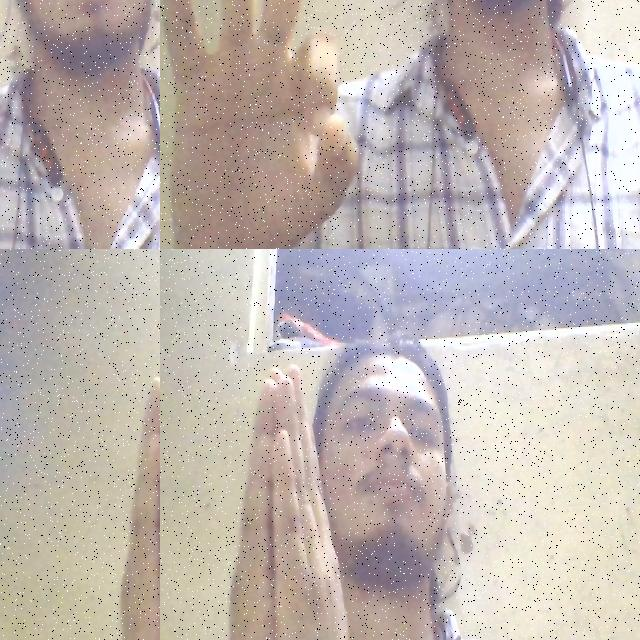Please: (160, 0, 373, 249)
Thank You: (194, 366, 394, 640), (110, 354, 160, 640)
